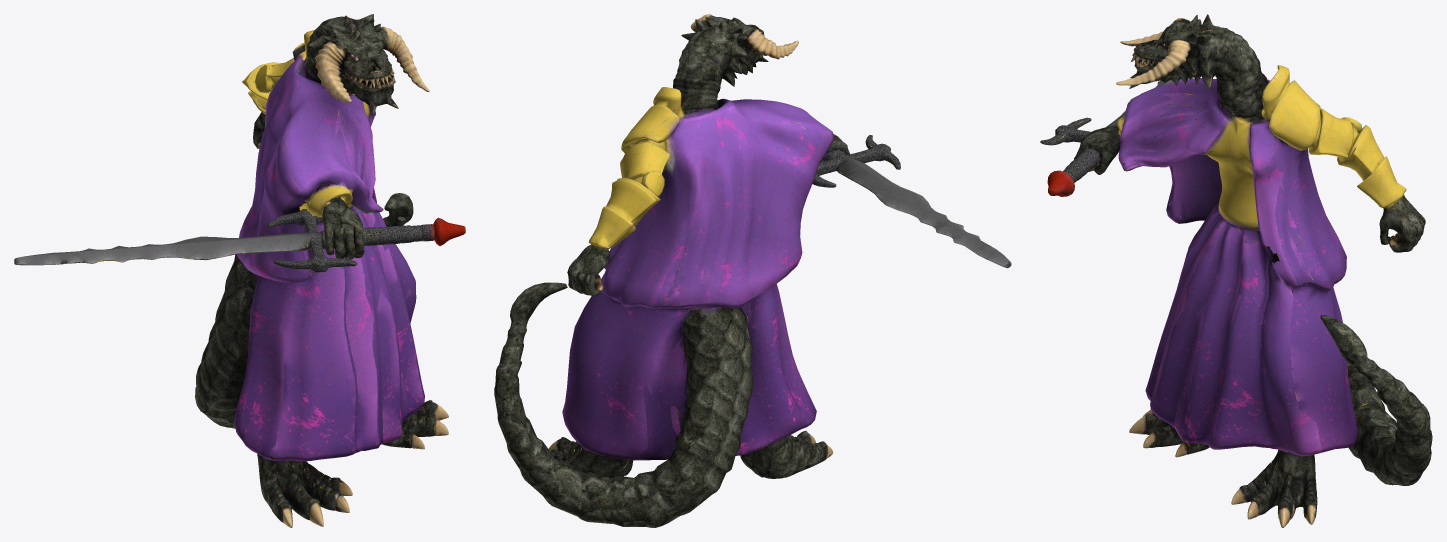
Rendered from MZ4250 - Rezmir.glb.
The picture shows the model from 3 angles, left to right: view 1: azimuth 30°, elevation 25°; view 2: azimuth 150°, elevation 25°; view 3: azimuth 270°, elevation 25°; orthographic projection. The views are drawn at different scales.
Visible parts, largest first — view 1: default; view 2: default; view 3: default.
Boxes of the visible parts, x1,y1,x2,y2 form: default: [14, 14, 465, 527]; default: [494, 14, 1011, 527]; default: [1040, 14, 1432, 527].
Bounding box in the file's own units: 1.12 × 1.07 × 0.8642.
Materials: 1 (1 with a texture image).
